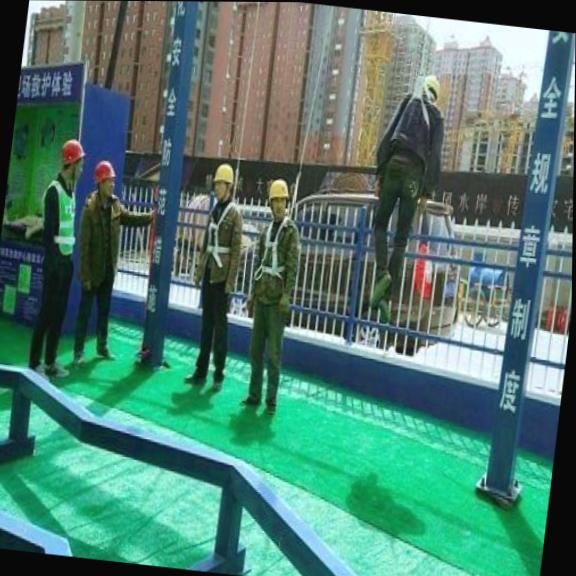no_safety_vest: (74, 190, 126, 286), (195, 199, 242, 294), (252, 218, 300, 306)
safety_vest: (45, 174, 83, 265)
